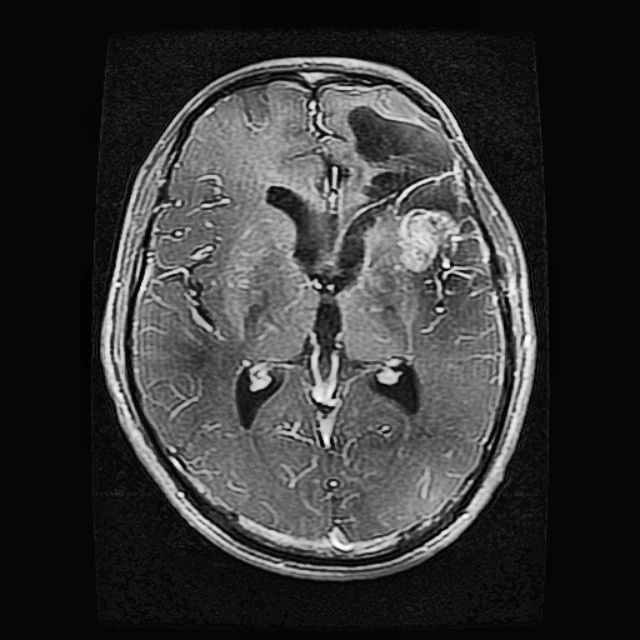Pituitary: (344, 103, 489, 300)
